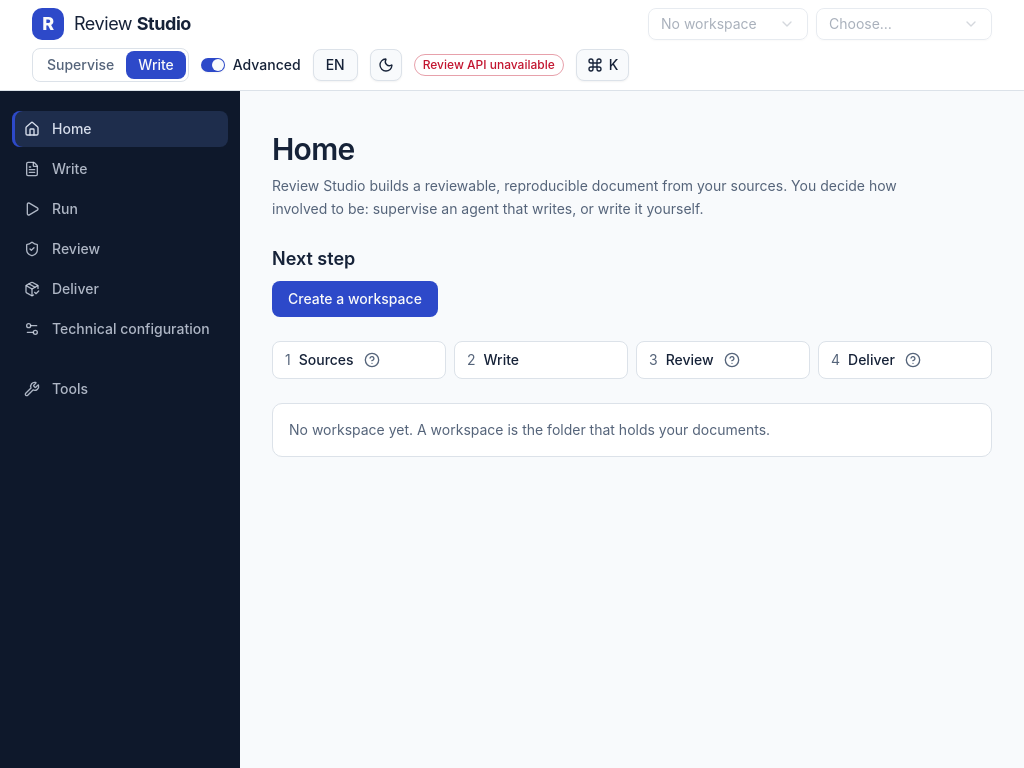
navigation by mode › lists every area in the palette under write + Advanced
Click the button named "Open command menu" at (603, 65), box [576,49,629,81]
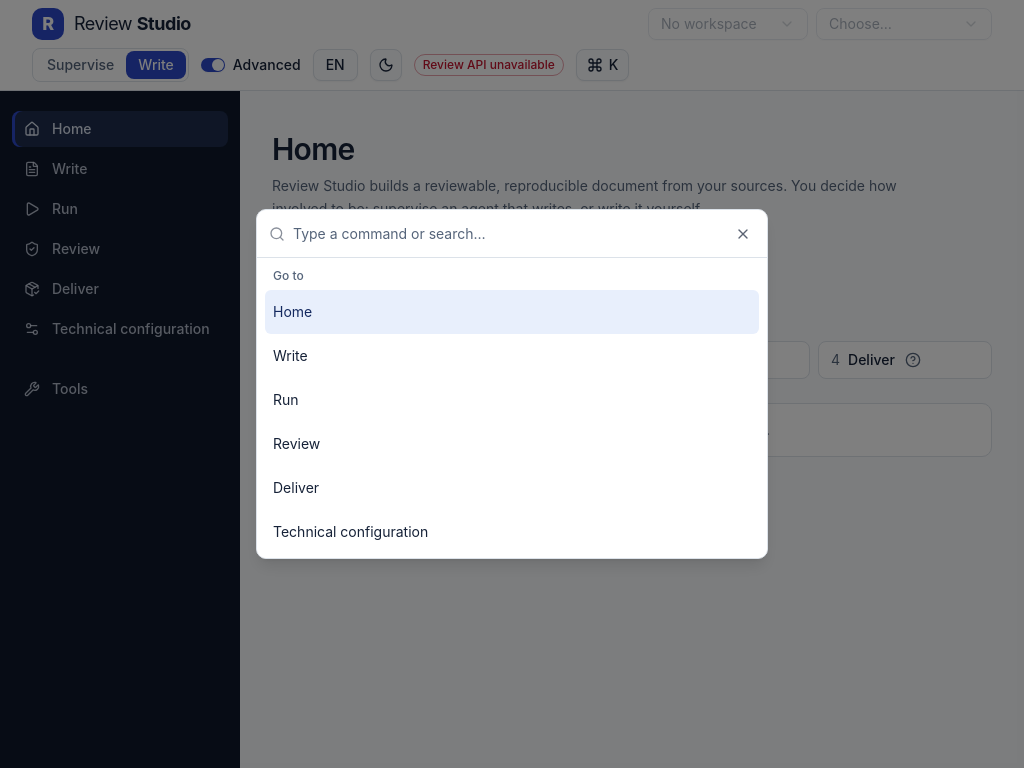
Check: the option "Home" is shown, box [265,290,759,334]
Check: the option "Write" is shown, box [273,347,308,364]
Check: the option "Run" is shown, box [273,391,299,408]
